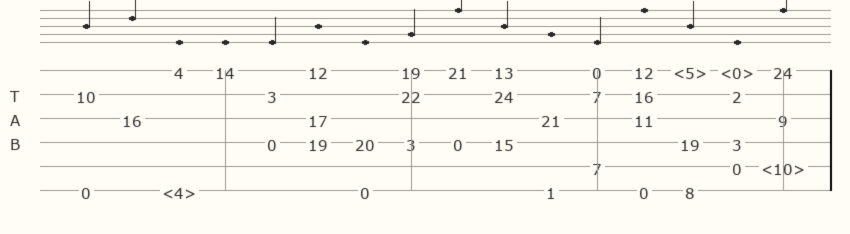0: (81, 183, 95, 198), (267, 135, 281, 150), (360, 183, 374, 198), (453, 135, 467, 150), (592, 63, 606, 78), (639, 183, 653, 198), (732, 159, 746, 174)
1: (546, 183, 560, 198)
10: (76, 87, 100, 102)
11: (634, 111, 658, 126)
12: (308, 63, 332, 78), (634, 63, 658, 78)
13: (494, 63, 518, 78)
14: (215, 63, 239, 78)
15: (494, 135, 518, 150)
16: (122, 111, 146, 126), (634, 87, 658, 102)
17: (308, 111, 332, 126)
19: (308, 135, 332, 150), (401, 63, 425, 78), (680, 135, 704, 150)
2: (732, 87, 746, 102)
20: (355, 135, 379, 150)
21: (448, 63, 472, 78), (541, 111, 565, 126)
22: (401, 87, 425, 102)
24: (494, 87, 518, 102), (773, 63, 797, 78)
3: (267, 87, 281, 102), (406, 135, 420, 150), (732, 135, 746, 150)
4: (174, 63, 188, 78)
7: (592, 87, 606, 102), (592, 159, 606, 174)
8: (685, 183, 699, 198)
9: (778, 111, 792, 126)
harmonic: (761, 159, 809, 174), (162, 183, 200, 198), (673, 63, 711, 78), (720, 63, 758, 78)
